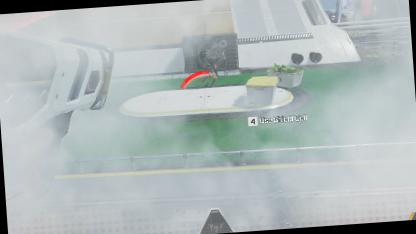Target: (200, 38, 228, 86)
